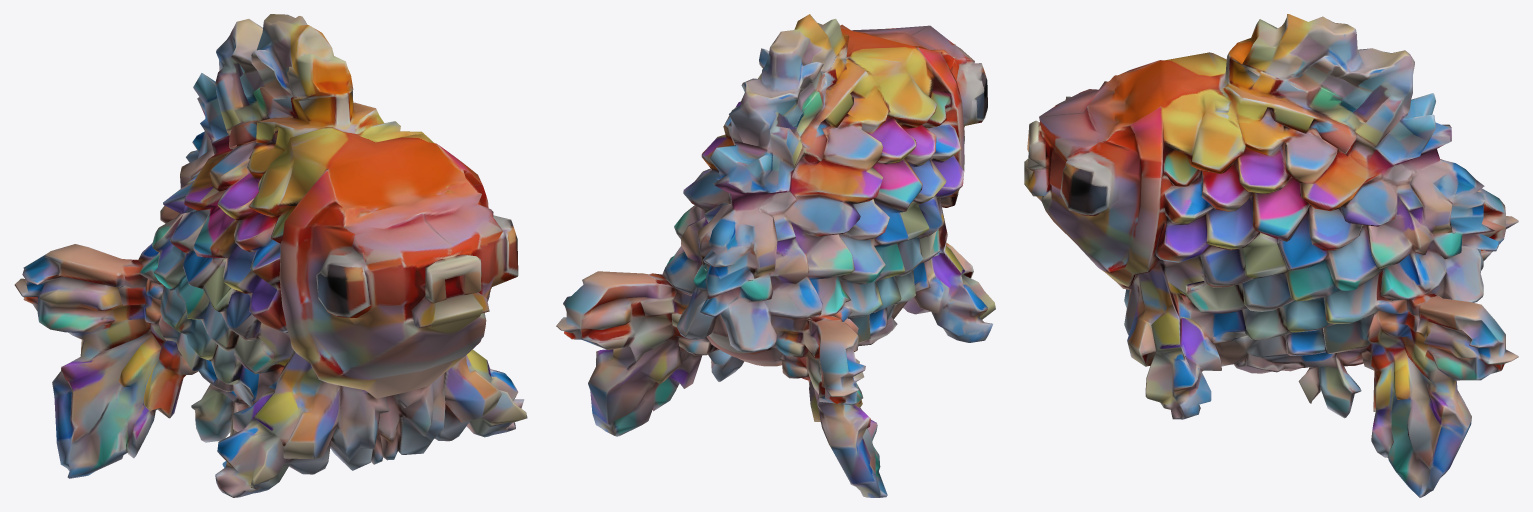
Rendered from prism-koi.glb.
3 renders of one model, left to right at view 1: azimuth 30°, elevation 25°; view 2: azimuth 150°, elevation 25°; view 3: azimuth 270°, elevation 25°, orthographic. The views are drawn at different scales.
Visible parts, largest first — view 1: tripo_node_61262e20-5371-40b0-a33f-5953ea3a839c; view 2: tripo_node_61262e20-5371-40b0-a33f-5953ea3a839c; view 3: tripo_node_61262e20-5371-40b0-a33f-5953ea3a839c.
Boxes of the visible parts, <box> form: tripo_node_61262e20-5371-40b0-a33f-5953ea3a839c: <box>14,14,527,497</box>; tripo_node_61262e20-5371-40b0-a33f-5953ea3a839c: <box>556,14,995,497</box>; tripo_node_61262e20-5371-40b0-a33f-5953ea3a839c: <box>1024,14,1518,497</box>.
Bounding box in the file's own units: 0.7143 × 0.9256 × 0.998.
1 material, 1 textured.
